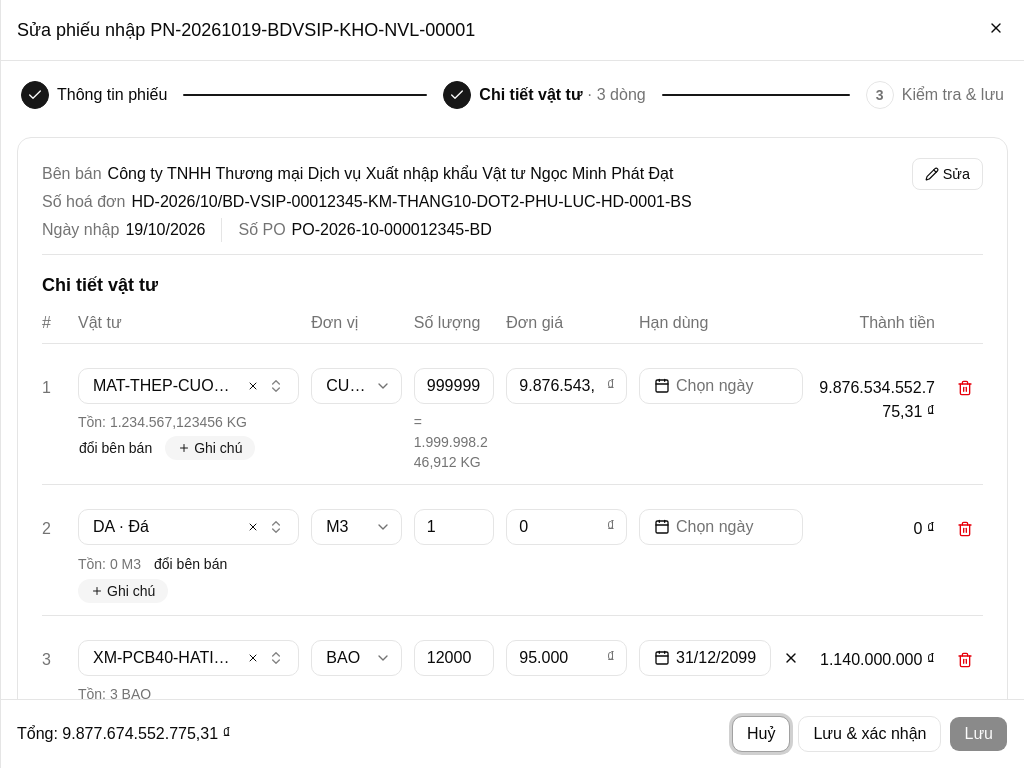
ImportFormSheet — break-ui › worst case: bước ③ trong sheet (chân sheet + bảng dòng)
The width and height of the screenshot is (1024, 768).
Click the button "3 Kiểm tra & lưu".
click(935, 95)  # box [862,77,1008,113]
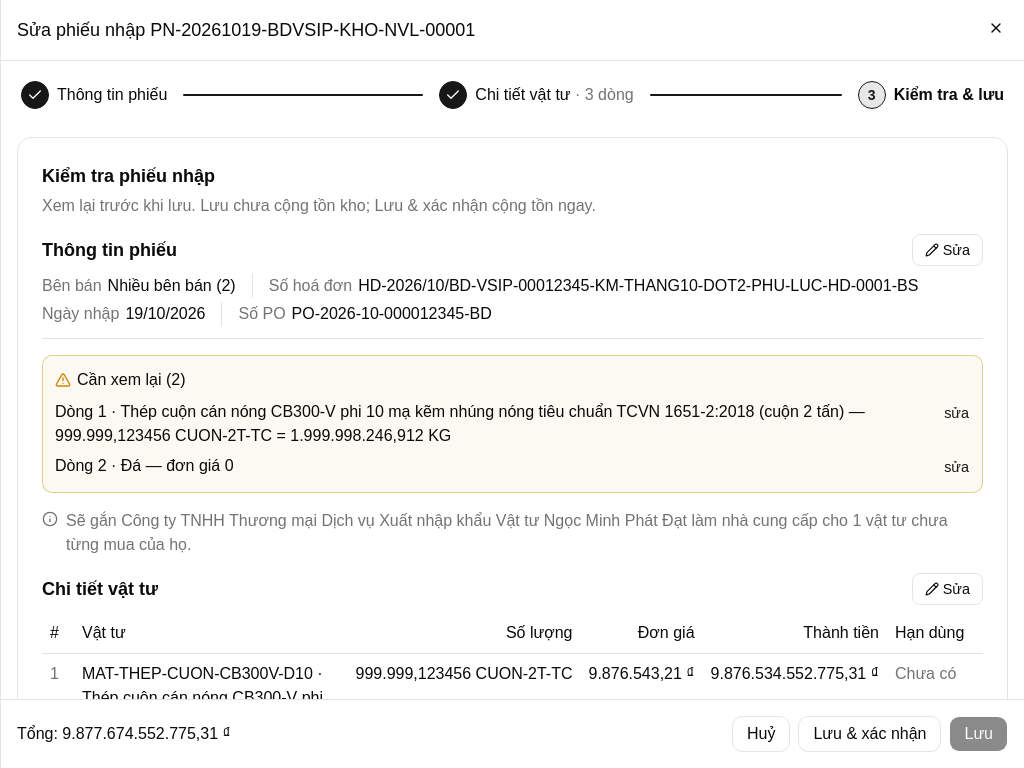
Expected: the heading "Kiểm tra phiếu nhập" is shown, [42,166,215,186]
